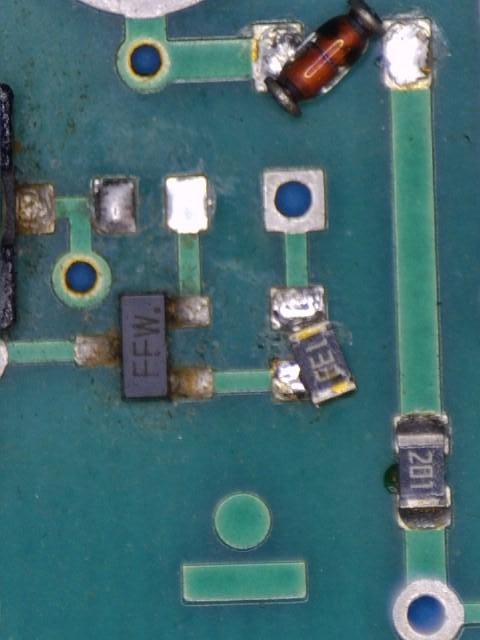pcb_defect: (250, 1, 433, 117), (270, 286, 356, 406)
